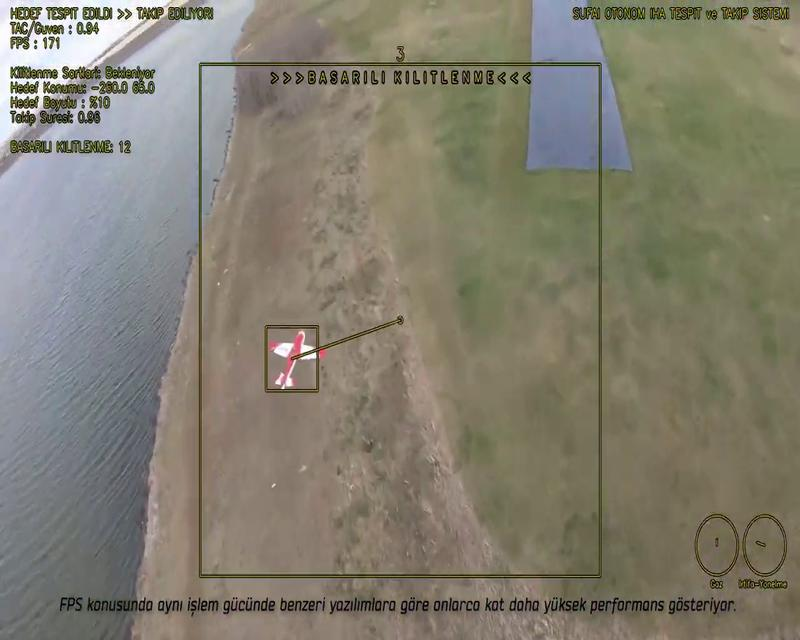UAV: (270, 330, 321, 390)
